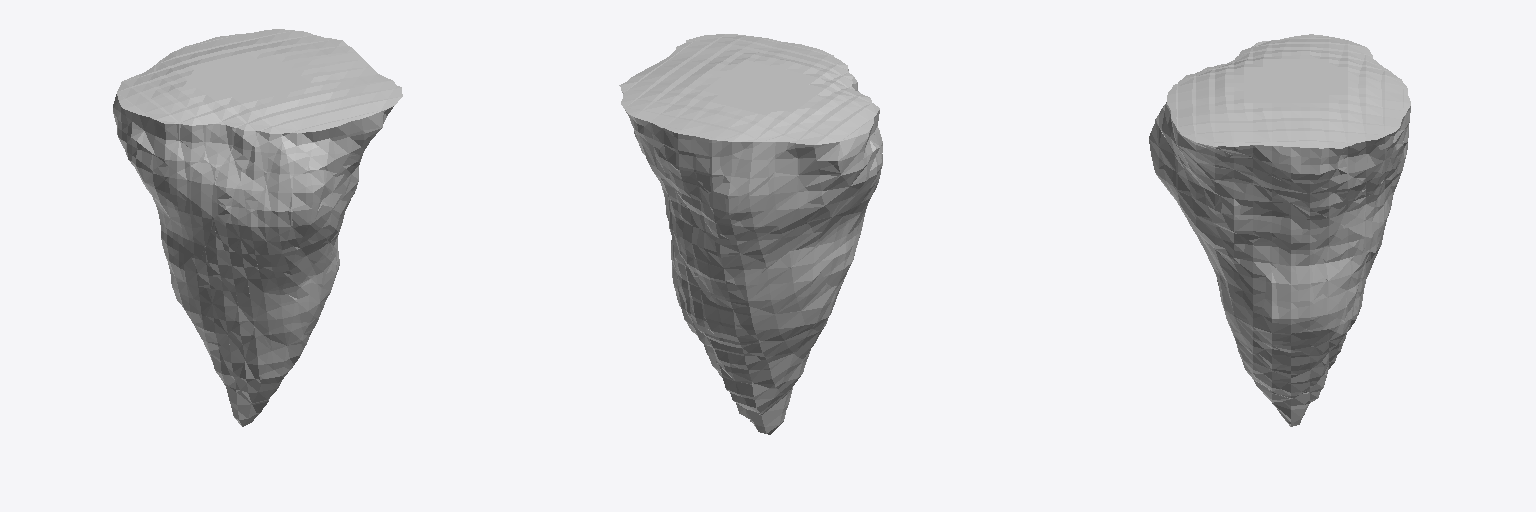
Rendered from IslandMisc_04.obj.
3 renders of one model, left to right at view 1: azimuth 30°, elevation 25°; view 2: azimuth 150°, elevation 25°; view 3: azimuth 270°, elevation 25°, orthographic.
Parts seen in each view (by area): view 1: IslandMisc_04; view 2: IslandMisc_04; view 3: IslandMisc_04.
Boxes of the visible parts, x1,y1,x2,y2 form: IslandMisc_04: [113, 29, 402, 426]; IslandMisc_04: [619, 34, 882, 434]; IslandMisc_04: [1149, 34, 1410, 426].
Size of the model in its own units: 14.39 by 20.22 by 13.9.